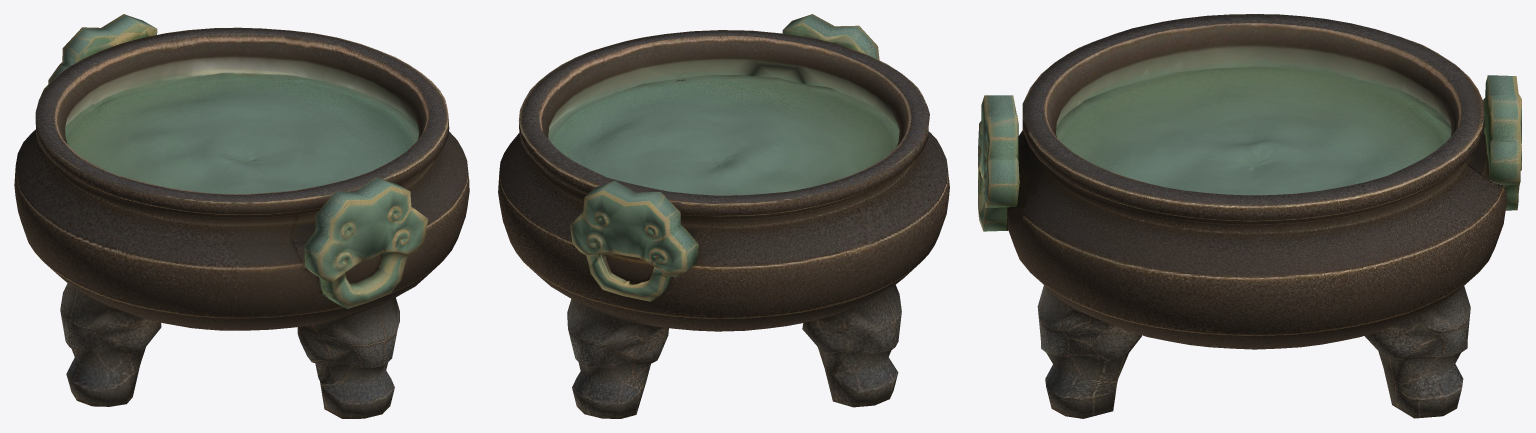
File: tripo_convert_20244814-81a2-4ed7-98ae-582d4209b23a.fbx
3 renders of one model, left to right at view 1: azimuth 30°, elevation 25°; view 2: azimuth 150°, elevation 25°; view 3: azimuth 270°, elevation 25°, orthographic. The views are drawn at different scales.
Visible parts, largest first — view 1: tripo_node_20244814; view 2: tripo_node_20244814; view 3: tripo_node_20244814.
Boxes of the visible parts, box(x1,y1,x2,y2) form: tripo_node_20244814: box(14, 14, 469, 418); tripo_node_20244814: box(498, 14, 949, 418); tripo_node_20244814: box(978, 14, 1521, 418).
Size of the model in its own units: 0.9238 by 0.5801 by 0.998.
Materials: 1 (1 with a texture image).
